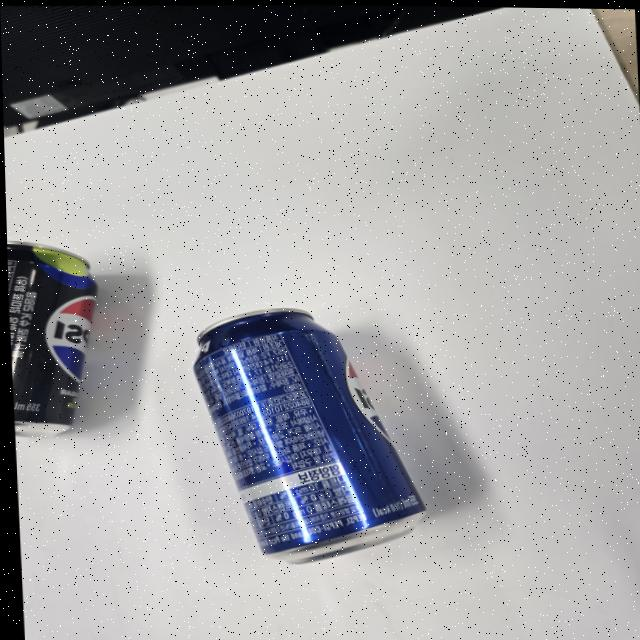can_pepsi: (188, 312, 423, 565)
can_pepsi_zero: (7, 240, 105, 440)
